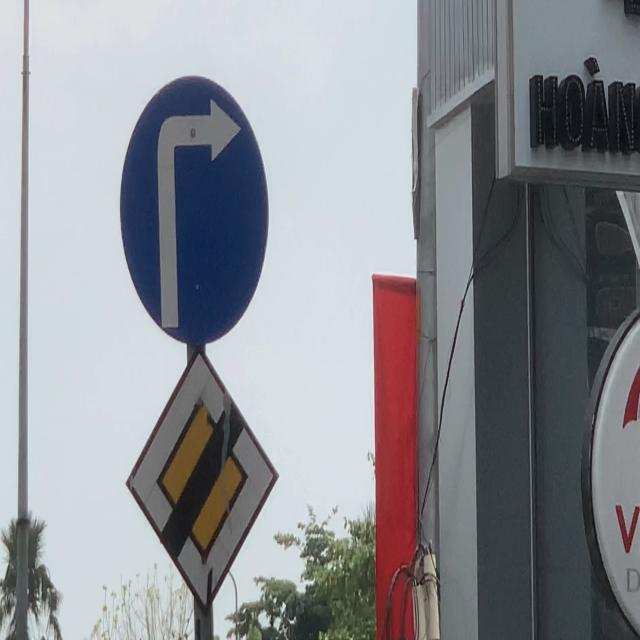Re phai: (116, 70, 276, 349)
